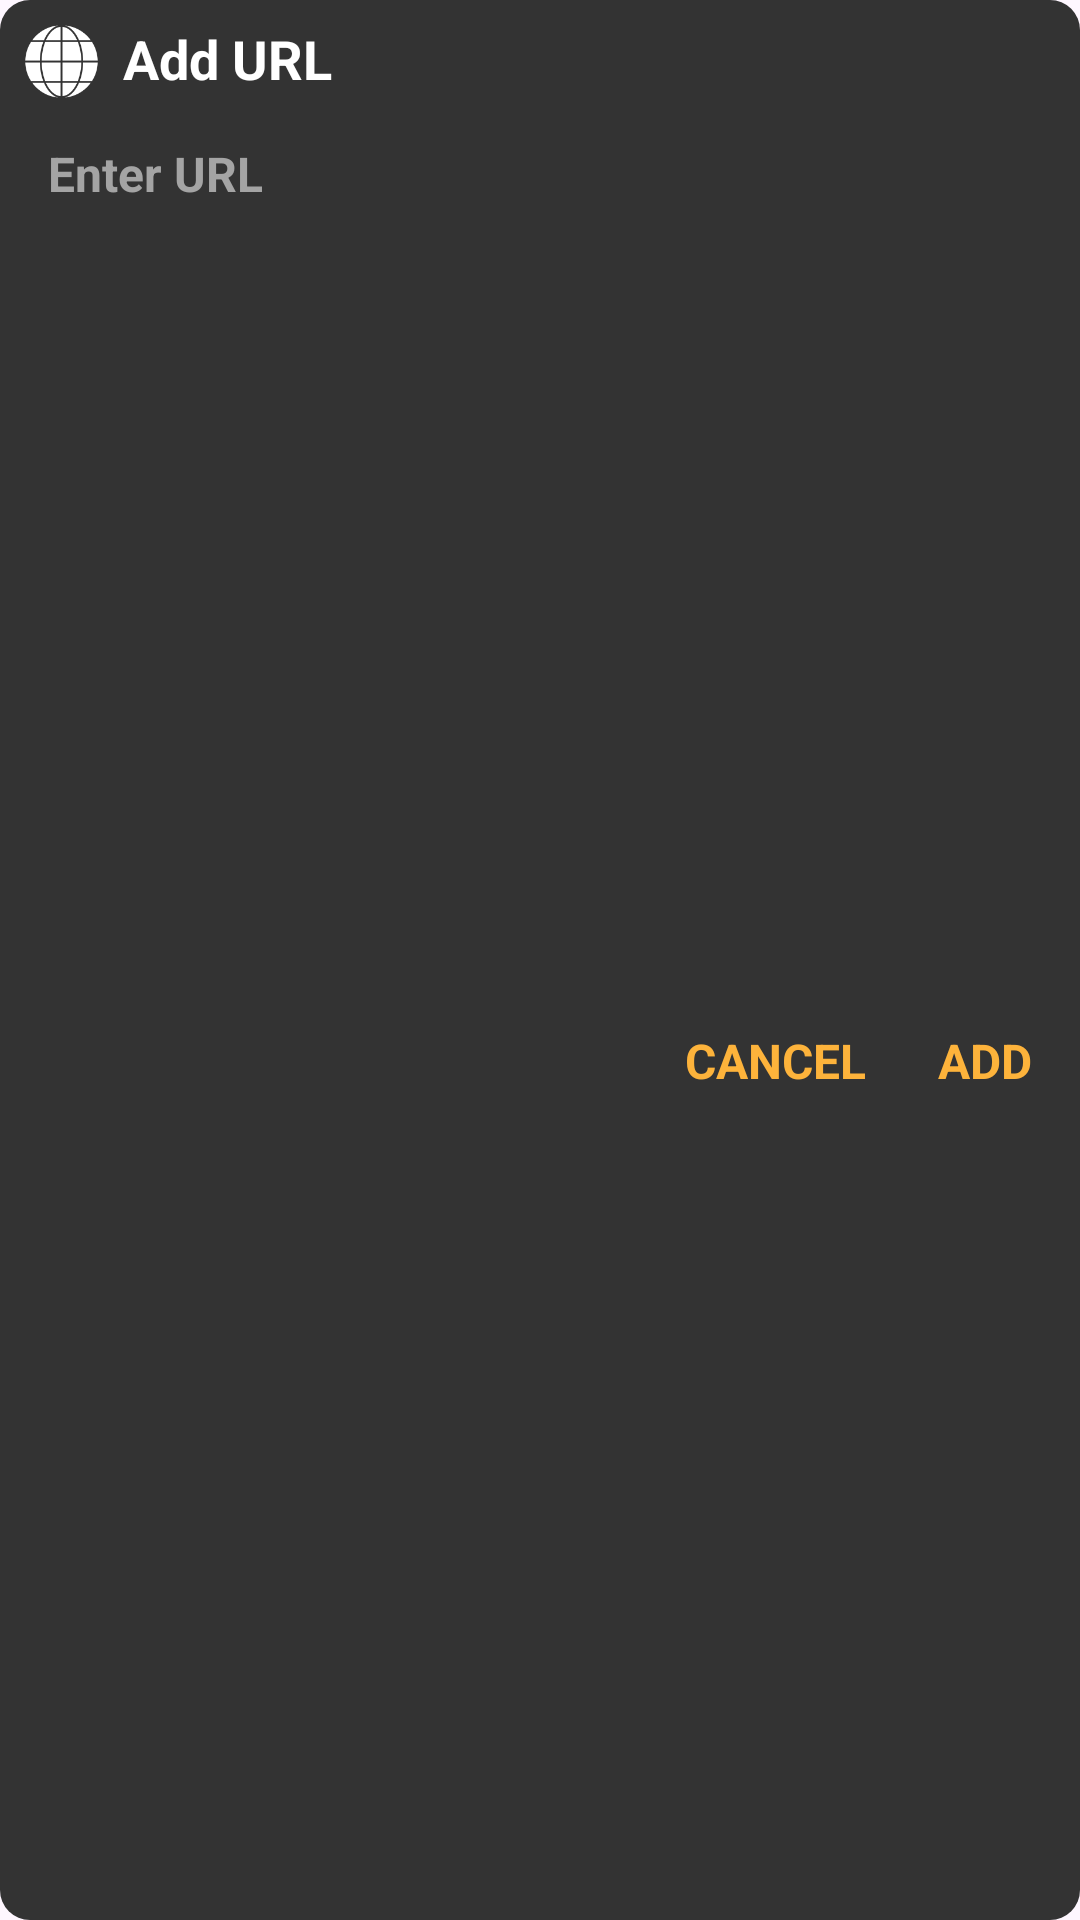

Point at icon controls on the screen. Image size 1080w x 1920h, points as (x=x, y=y).
browser: (x=61, y=61)
